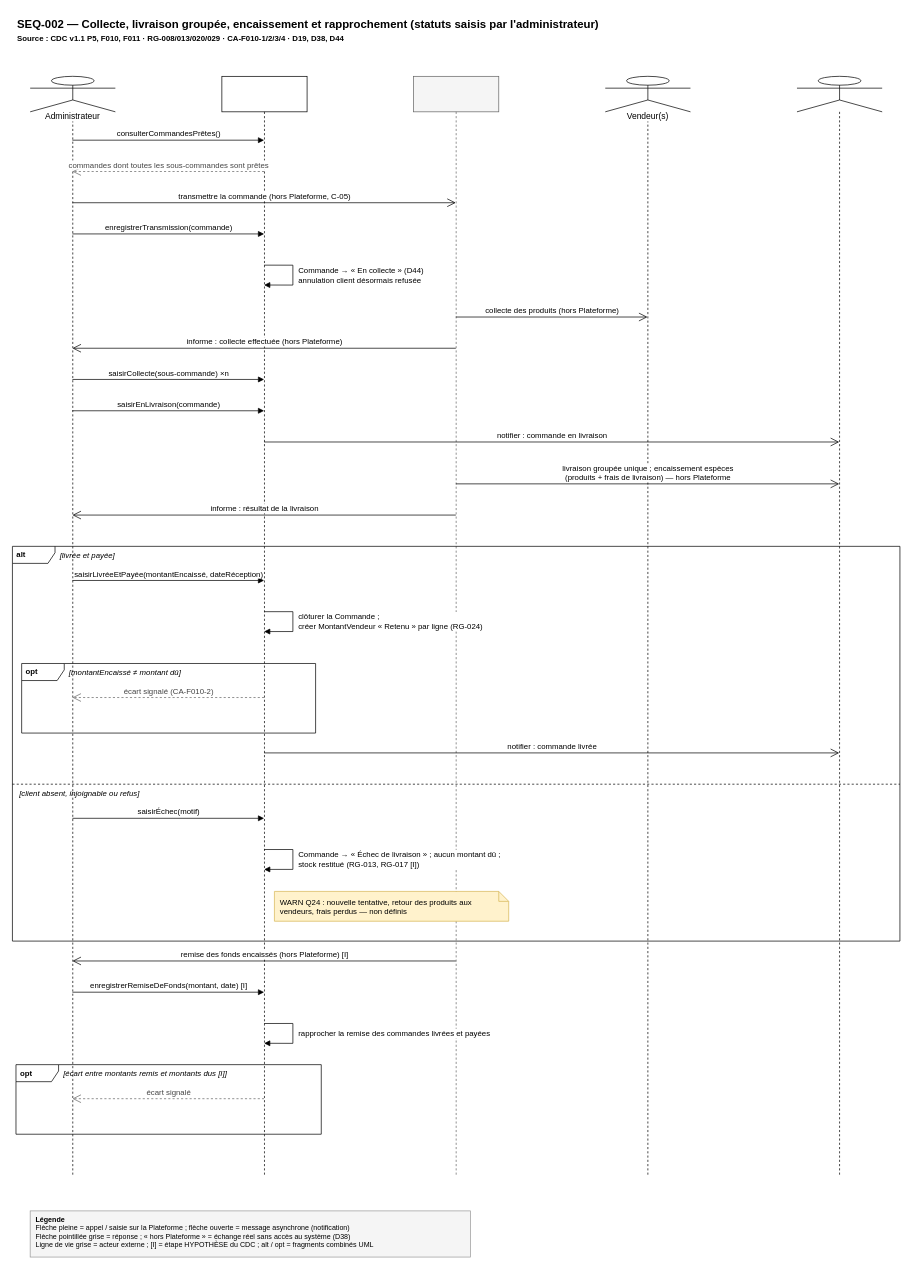
Image size: 913x1269. Some labels were removed from this diagram. Here are the shapes that lost their labels. From the top down, the box of each, then its label:
(221, 76, 307, 1175): Plateforme
(413, 76, 499, 1175): Société de livraison «externe»
(796, 76, 882, 1175): Client
